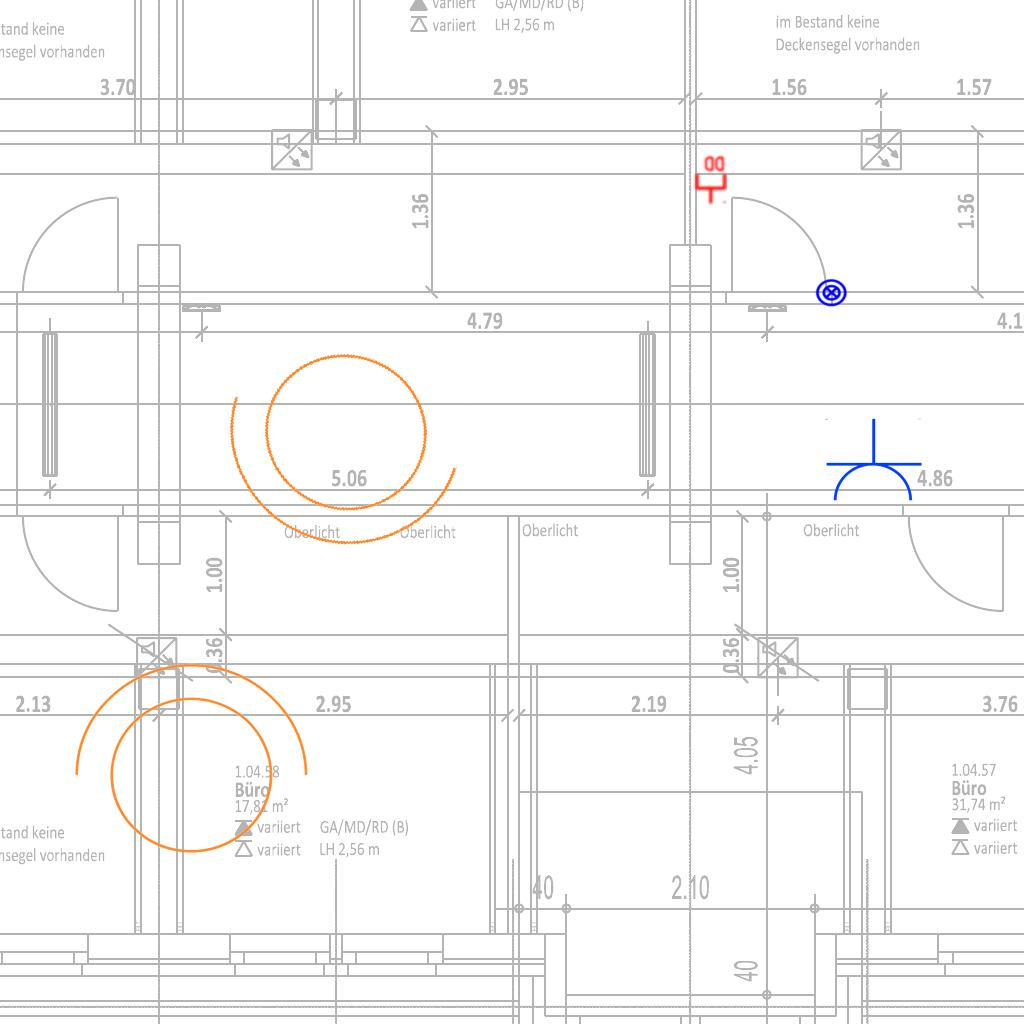Datenanschluss_zweifach: (693, 154, 727, 205)
Scheinwerfer_fuer_Alarmbeleuchtung: (188, 295, 510, 592), (53, 653, 317, 878)
Schukosteckdose_einfach: (823, 418, 923, 505)
Taster_beleuchtet: (815, 276, 848, 309)
